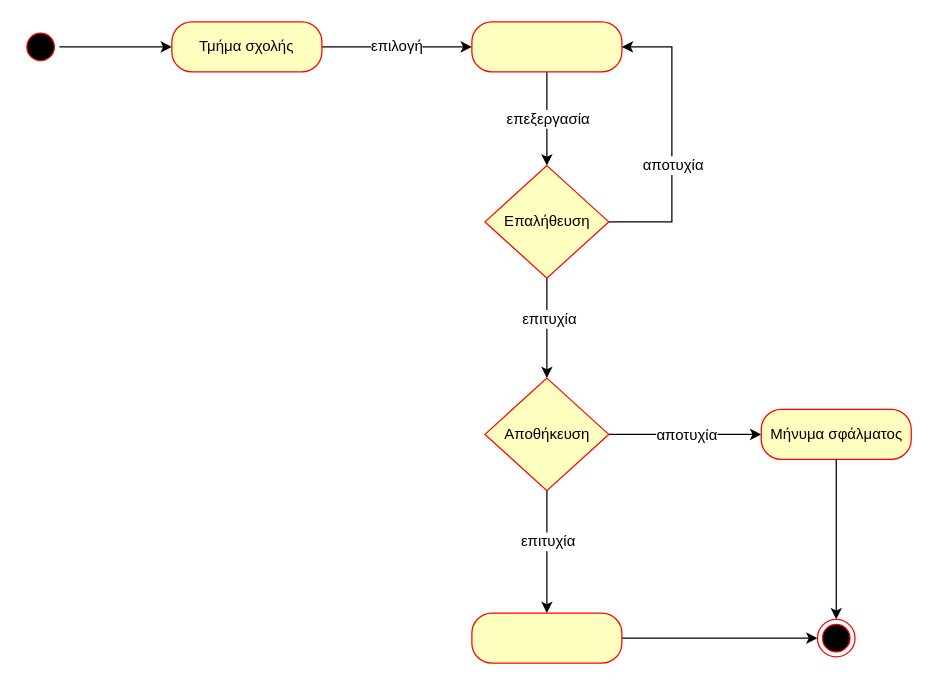
The diagram is 934 pixels wide and 685 high, and some of its shapes have lost their labels. Each missing label, with the box of its shape:
Επισκόπηση τμήματος: (471, 612, 622, 663)
Στοιχεία καταχώρησης: (471, 21, 622, 72)
